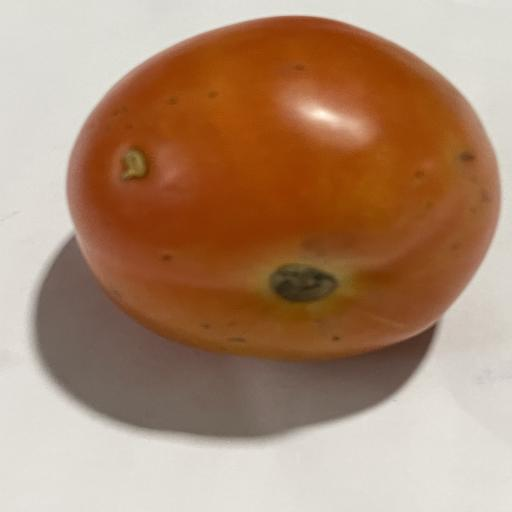ripe: (68, 16, 500, 360)
